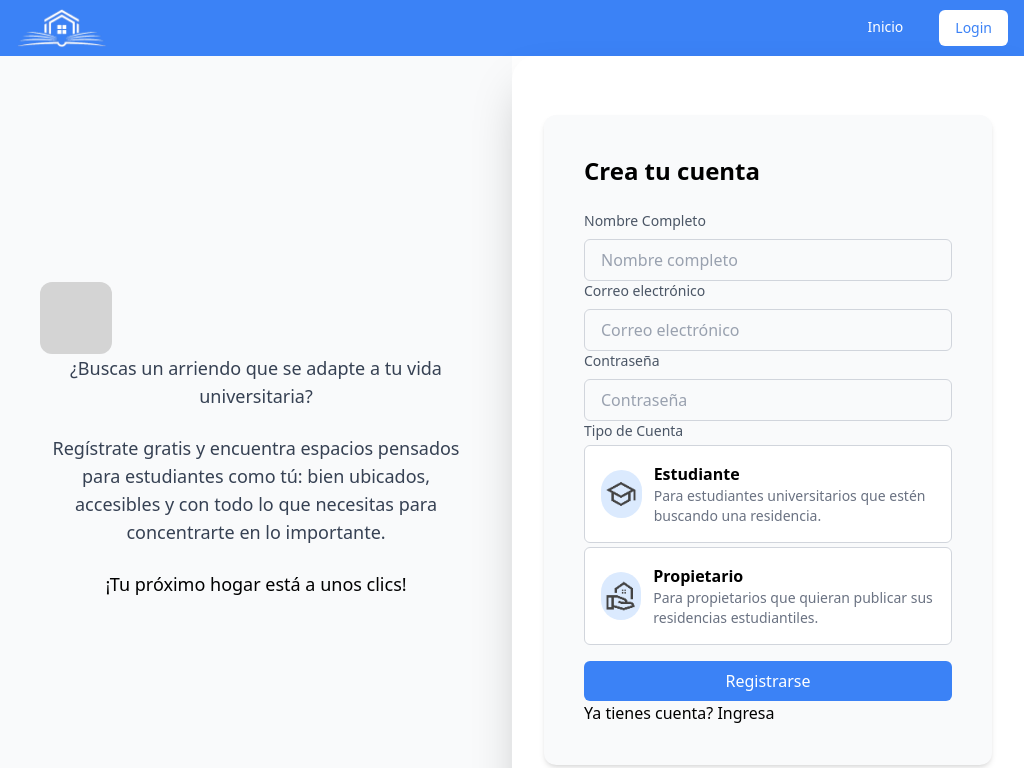
Test case: SignupForm Interactions › should display an error message if the user already exists (e.g., 409 Conflict)
Type "Existing User" into the field named "name".
click(768, 260); type("Existing User")  # box [584,239,952,281]
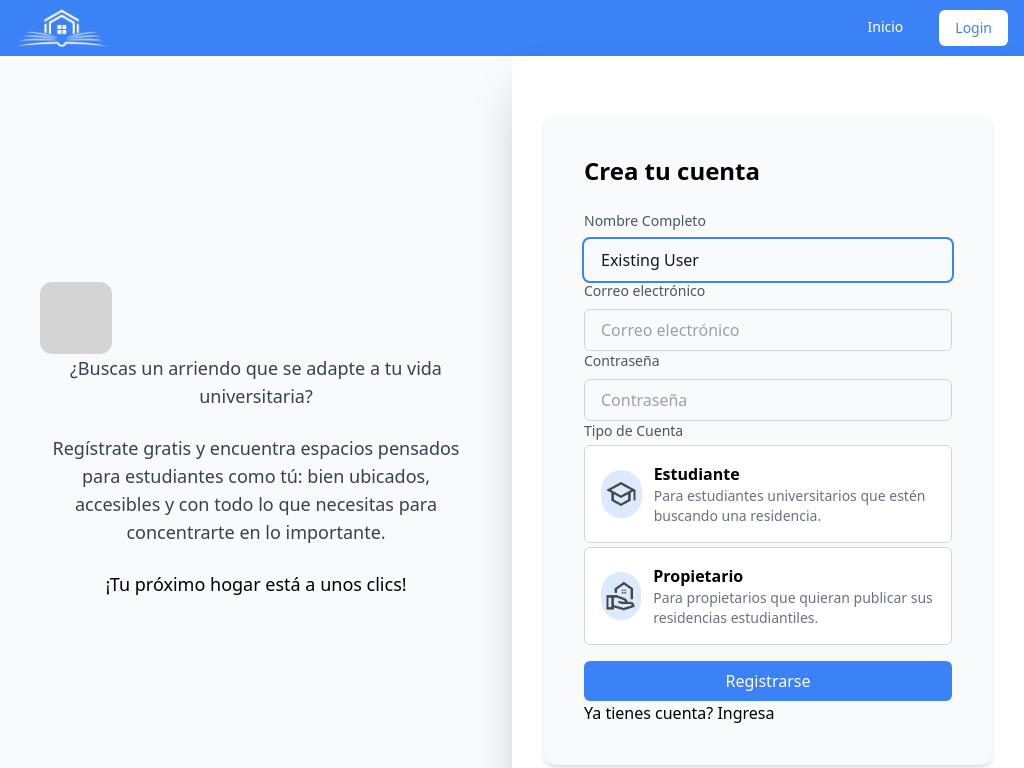
Type "existing@example.com" into the field named "email".
click(768, 330); type("existing@example.com")  # box [584,309,952,351]
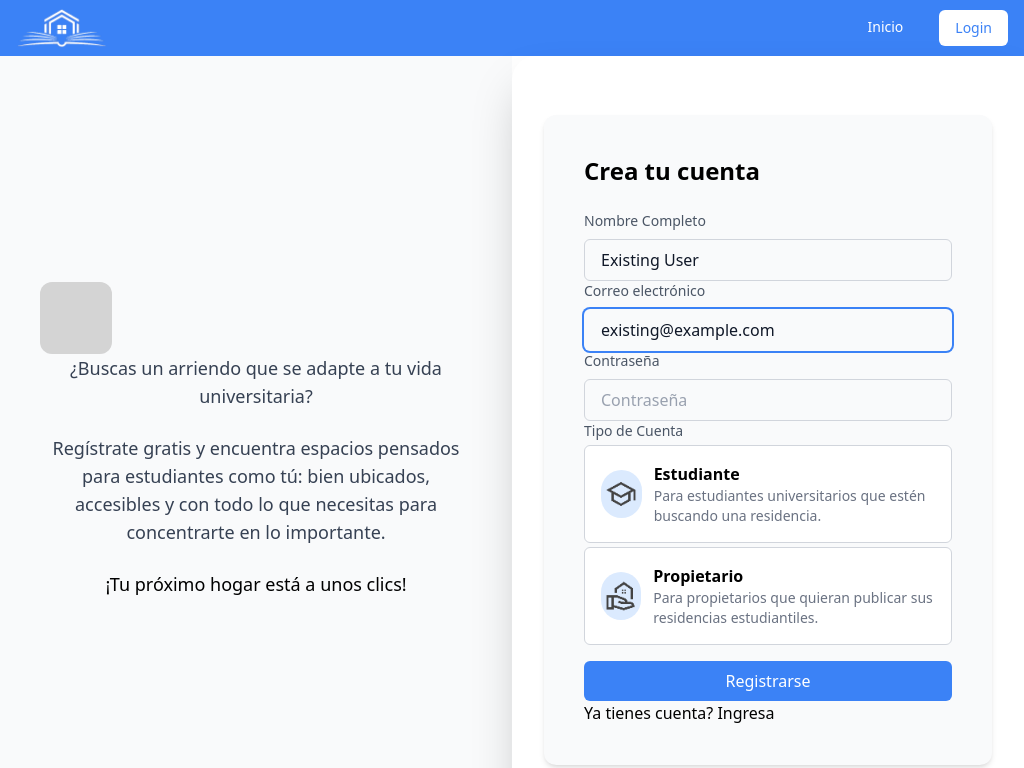
Type "password123" into the password field named "password".
click(768, 400); type("password123")  # box [584,379,952,421]
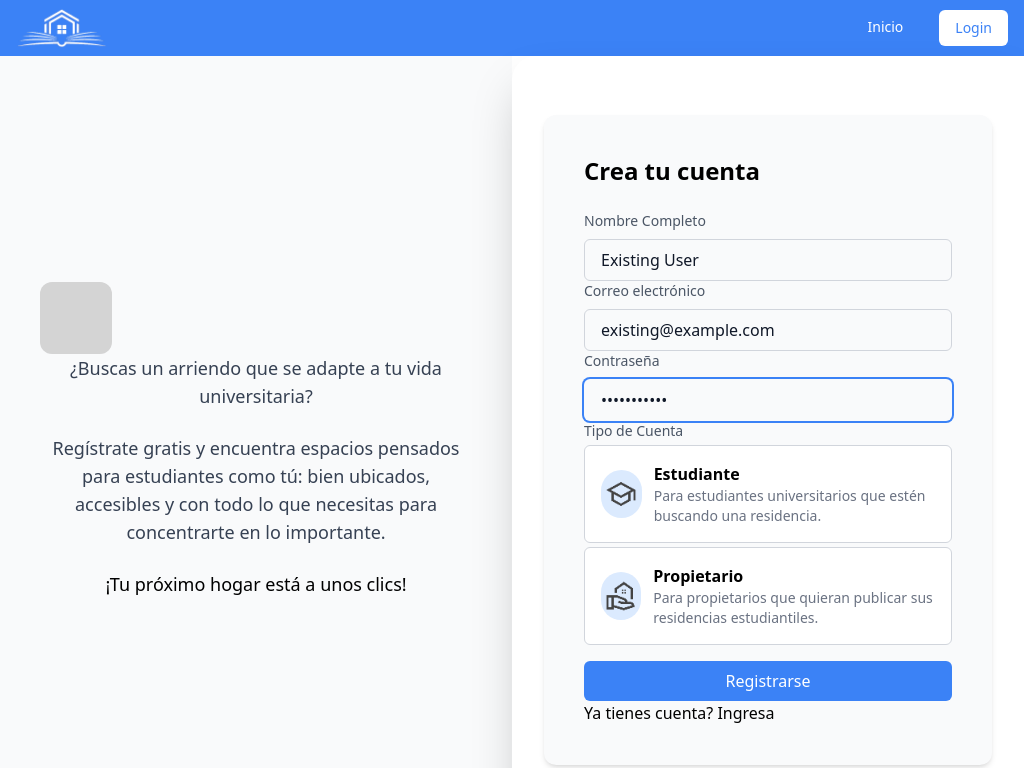
Click the button "Estudiante".
click(768, 494)  # box [584,445,952,543]
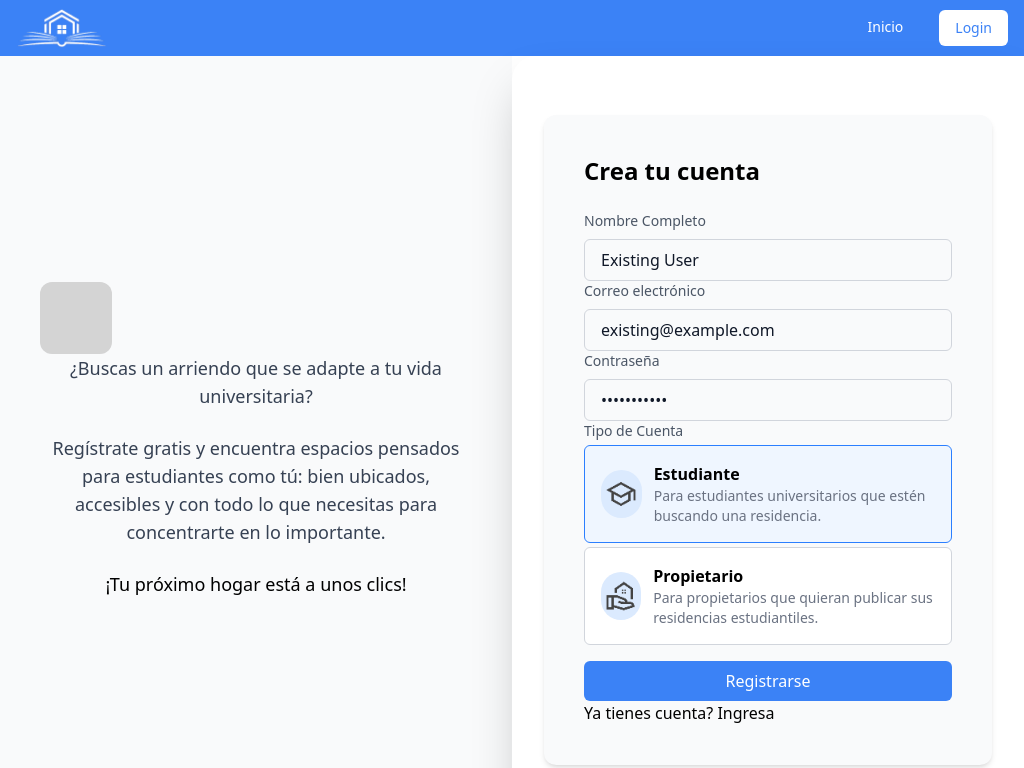
Submit the form, box [584,211,952,701]
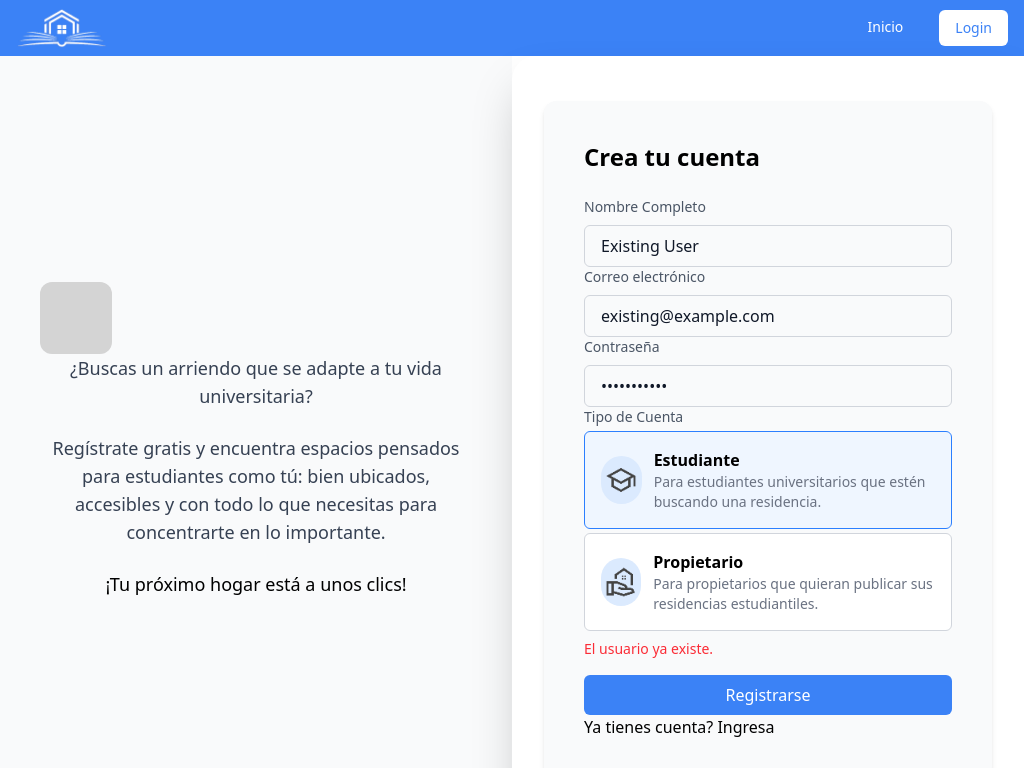
expect the text "El usuario ya existe." is shown: met, box [584,639,713,658]
